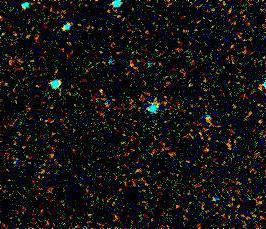star: (86, 74, 116, 104)
